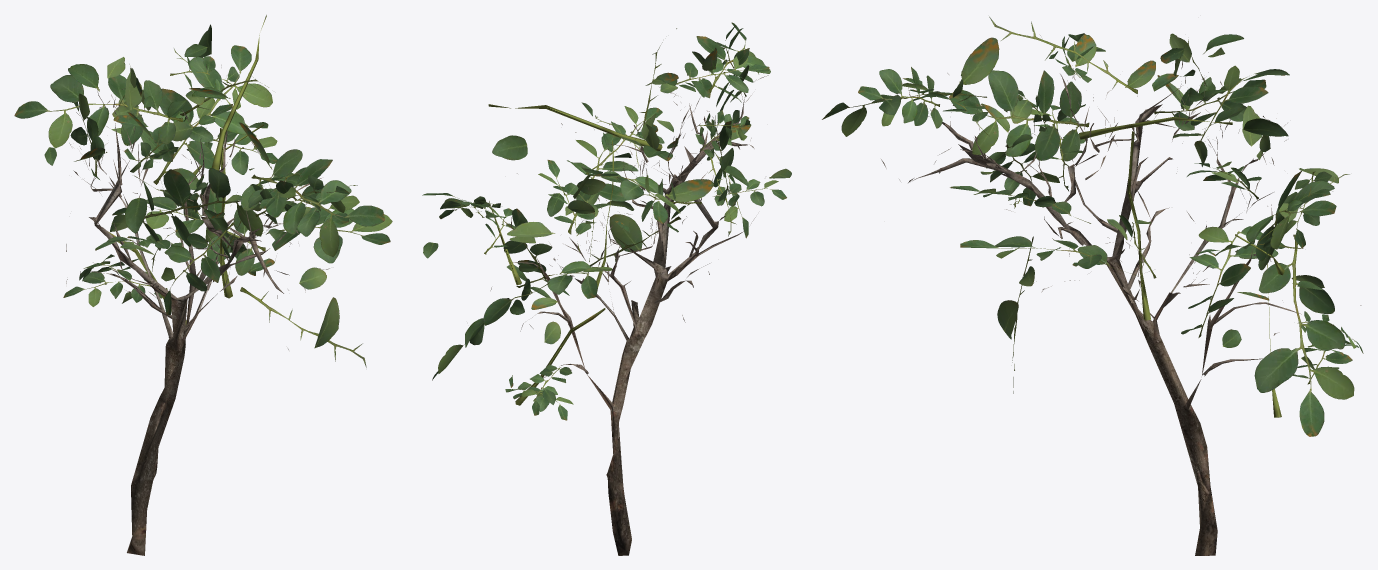
Rendered from tree_small_02_lod1.glb.
3 views of the same model, side by side, from view 1: azimuth 30°, elevation 25°; view 2: azimuth 150°, elevation 25°; view 3: azimuth 270°, elevation 25° (orthographic). The views are drawn at different scales.
Visible parts, largest first — view 1: tree_small_02_LOD0; view 2: tree_small_02_LOD0; view 3: tree_small_02_LOD0.
Part boxes in pixels (x1,y1,x2,y2): tree_small_02_LOD0: (14,15,392,555); tree_small_02_LOD0: (422,22,791,555); tree_small_02_LOD0: (822,16,1363,555).
Bounding box in the file's own units: 2.67 × 4.67 × 4.17.
3 materials, 3 textured.
